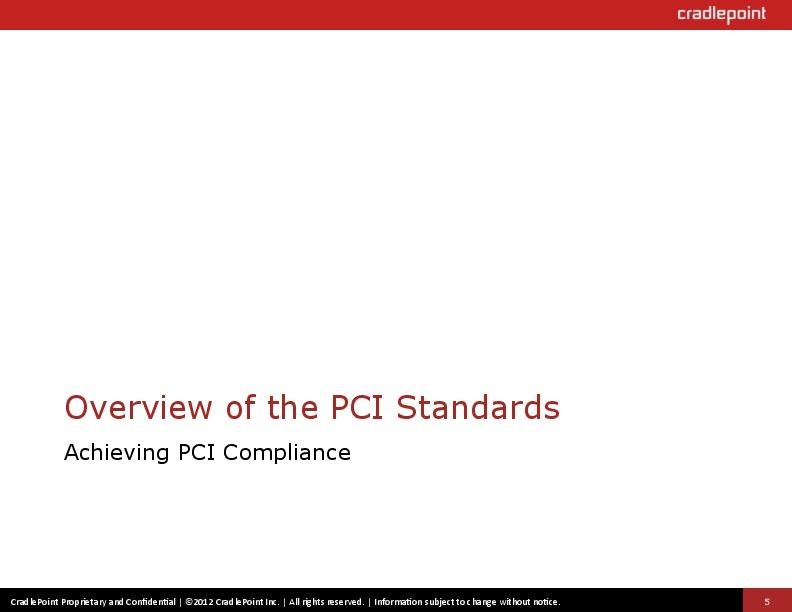title: (60, 377, 598, 502)
